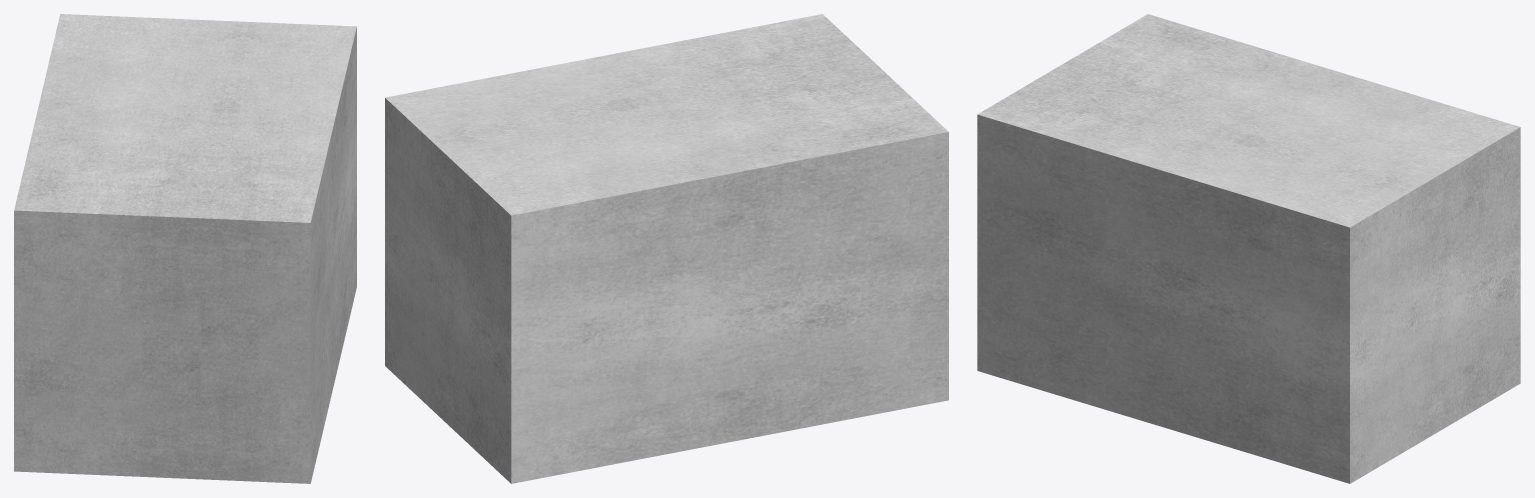
The model's file is FOLA.gltf.
The picture shows the model from 3 angles, left to right: view 1: azimuth 30°, elevation 25°; view 2: azimuth 150°, elevation 25°; view 3: azimuth 270°, elevation 25°; orthographic projection. The views are drawn at different scales.
Parts seen in each view (by area): view 1: FOLA; view 2: FOLA; view 3: FOLA.
Boxes of the visible parts, x1,y1,x2,y2 form: FOLA: (14, 14, 356, 483); FOLA: (385, 14, 948, 483); FOLA: (977, 14, 1520, 483).
Size of the model in its own units: 0.5237 by 0.2931 by 0.5632.
Materials: 1 (1 with a texture image).
